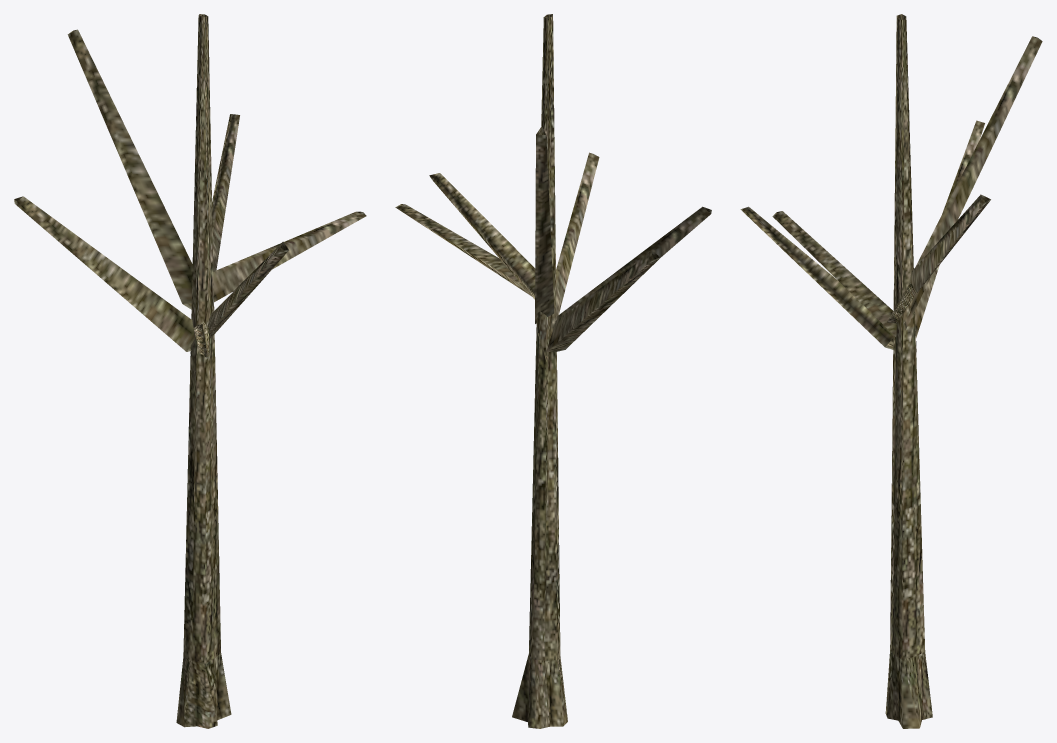
Rendered from tree_tamarix_b.dae.
The picture shows the model from 3 angles, left to right: view 1: azimuth 30°, elevation 25°; view 2: azimuth 150°, elevation 25°; view 3: azimuth 270°, elevation 25°; orthographic projection.
Parts seen in each view (by area): view 1: tree_oak_a; view 2: tree_oak_a; view 3: tree_oak_a.
Boxes of the visible parts, left/top/right/bottom form: tree_oak_a: left=14, top=14, right=366, bottom=728; tree_oak_a: left=395, top=14, right=711, bottom=728; tree_oak_a: left=740, top=14, right=1042, bottom=728.
Size of the model in its own units: 5.03 by 4.32 by 11.03.
